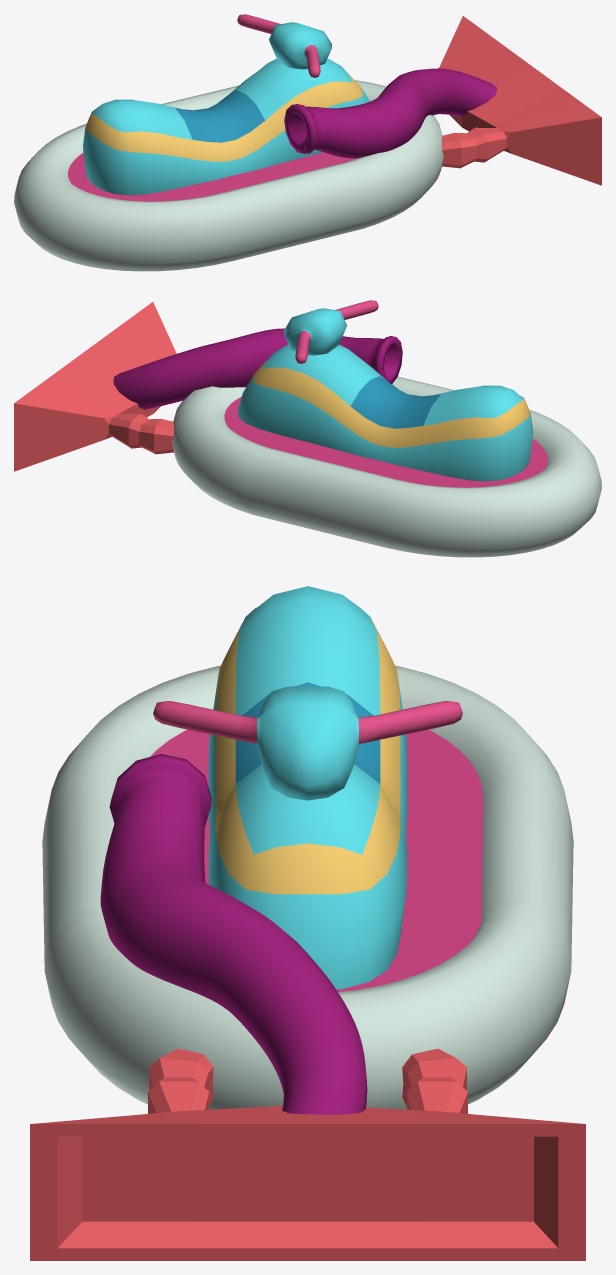
The model's file is jetski.fbx.
3 renders of one model, top to bottom at view 1: azimuth 30°, elevation 25°; view 2: azimuth 150°, elevation 25°; view 3: azimuth 270°, elevation 25°, orthographic. The views are drawn at different scales.
Visible parts, largest first — view 1: Torus, Cube.001, Cube.003, NurbsPath, Cube, Cube.002; view 2: Torus, Cube.001, Cube.003, NurbsPath, Cube, Cube.002; view 3: Cube.003, Torus, Cube.001, NurbsPath, Cube, Cube.002.
Part boxes in pixels (left/top/right/bottom): Torus: left=14, top=80, right=443, bottom=271; Cube.001: left=82, top=58, right=369, bottom=195; Cube.003: left=439, top=16, right=601, bottom=185; NurbsPath: left=284, top=68, right=497, bottom=158; Cube: left=68, top=152, right=355, bottom=201; Cube.002: left=237, top=14, right=331, bottom=77; Torus: left=172, top=376, right=601, bottom=557; Cube.001: left=238, top=344, right=533, bottom=481; Cube.003: left=14, top=302, right=176, bottom=471; NurbsPath: left=113, top=328, right=402, bottom=409; Cube: left=224, top=397, right=547, bottom=487; Cube.002: left=284, top=300, right=378, bottom=363; Cube.003: left=30, top=1048, right=585, bottom=1260; Torus: left=42, top=665, right=573, bottom=1109; Cube.001: left=208, top=586, right=407, bottom=989; NurbsPath: left=100, top=754, right=367, bottom=1114; Cube: left=150, top=729, right=482, bottom=991; Cube.002: left=153, top=686, right=462, bottom=800.
Bounding box in the file's own units: 3.94 × 1.24 × 1.88.
1 material, 1 textured.
